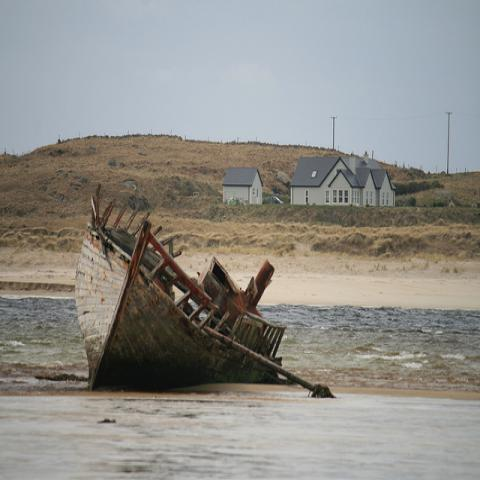car: (268, 196, 284, 204)
